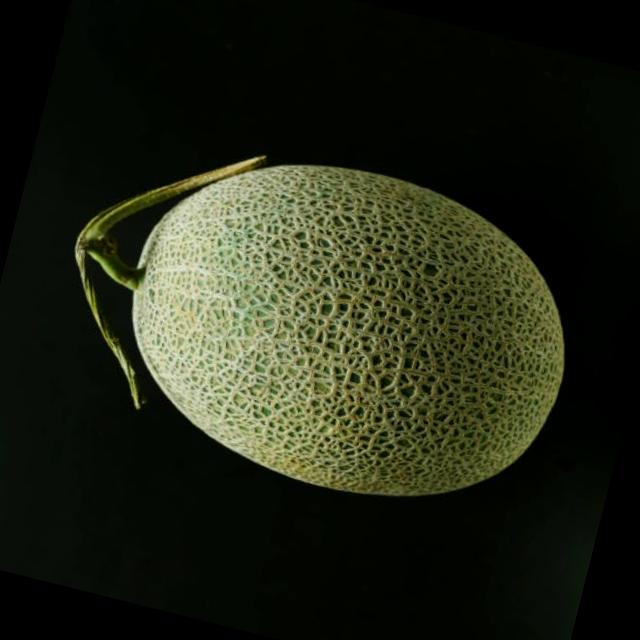cantaloupe: (33, 106, 598, 534)
